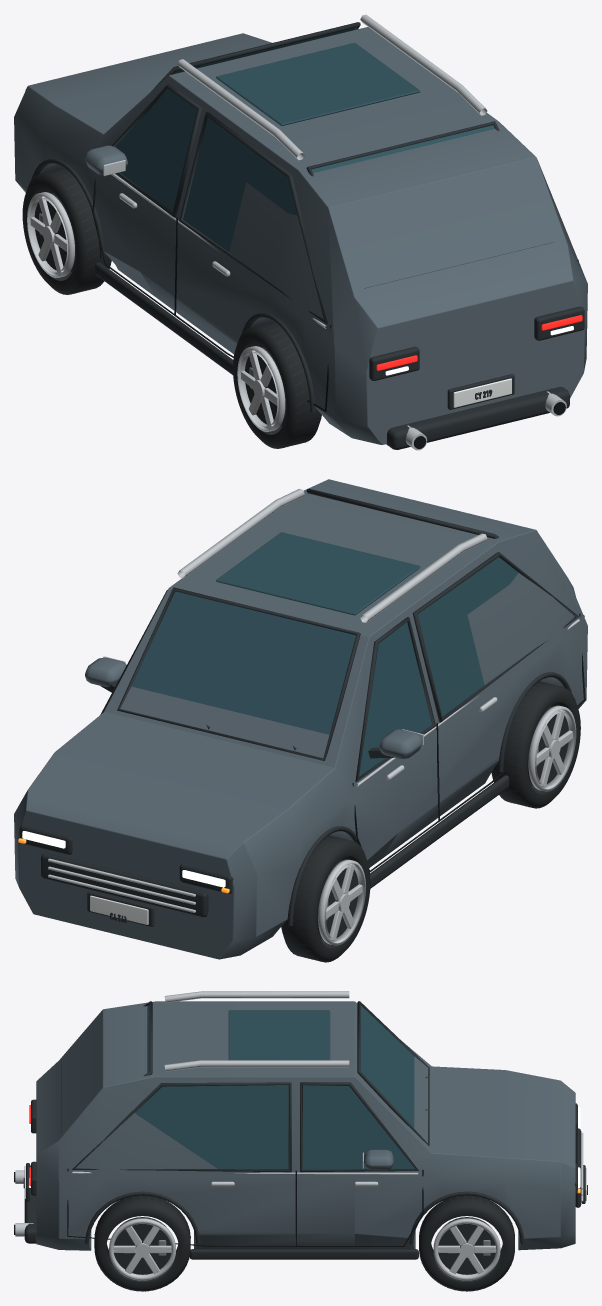
File: vehicle_cayo_utility_suv.glb
3 renders of one model, top to bottom at view 1: azimuth 30°, elevation 25°; view 2: azimuth 150°, elevation 25°; view 3: azimuth 270°, elevation 25°, orthographic. The views are drawn at different scales.
Parts seen in each view (by area): view 1: Cayo Utility SUV | continuous sculpted body, Cayo Utility SUV | panoramic roof, Cayo Utility SUV | rear quarter glazing, Cayo Utility SUV | front door glazing, Cayo Utility SUV | left rear | chamfered tire, Cayo Utility SUV | left front | chamfered tire, Cayo Utility SUV | rear bumper diffuser, Cayo Utility SUV | sill protector, Cayo Utility SUV | rear quarter glazing | gasket, Cayo Utility SUV | left rear | alloy rim lip, Cayo Utility SUV | left front | alloy rim lip, Cayo Utility SUV | satin roof rail (+17 smaller); view 2: Cayo Utility SUV | continuous sculpted body, Cayo Utility SUV | front windshield, Cayo Utility SUV | panoramic roof, Cayo Utility SUV | rear quarter glazing, Cayo Utility SUV | front door glazing, Cayo Utility SUV | left front | chamfered tire, Cayo Utility SUV | left rear | chamfered tire, Cayo Utility SUV | front bumper inset, Cayo Utility SUV | front windshield | weather seal, Cayo Utility SUV | sill protector, Cayo Utility SUV | rear quarter glazing | gasket, Cayo Utility SUV | left rear | alloy rim lip (+16 smaller); view 3: Cayo Utility SUV | continuous sculpted body, Cayo Utility SUV | rear quarter glazing.001, Cayo Utility SUV | front door glazing.001, Cayo Utility SUV | panoramic roof, Cayo Utility SUV | right rear | chamfered tire, Cayo Utility SUV | right front | chamfered tire, Cayo Utility SUV | front windshield, Cayo Utility SUV | sill protector.001, Cayo Utility SUV | rear quarter glazing | gasket.001, Cayo Utility SUV | satin roof rail, Cayo Utility SUV | satin roof rail.001, Cayo Utility SUV | right front | recessed wheel barrel (+13 smaller).
Part boxes in pixels (left/top/right/bottom): Cayo Utility SUV | continuous sculpted body: left=14, top=27, right=587, bottom=444; Cayo Utility SUV | panoramic roof: left=216, top=43, right=420, bottom=125; Cayo Utility SUV | rear quarter glazing: left=183, top=117, right=297, bottom=251; Cayo Utility SUV | front door glazing: left=115, top=89, right=197, bottom=211; Cayo Utility SUV | left rear | chamfered tire: left=233, top=321, right=321, bottom=448; Cayo Utility SUV | left front | chamfered tire: left=22, top=168, right=111, bottom=294; Cayo Utility SUV | rear bumper diffuser: left=386, top=386, right=569, bottom=449; Cayo Utility SUV | sill protector: left=95, top=262, right=233, bottom=374; Cayo Utility SUV | rear quarter glazing | gasket: left=179, top=112, right=327, bottom=323; Cayo Utility SUV | left rear | alloy rim lip: left=237, top=346, right=285, bottom=431; Cayo Utility SUV | left front | alloy rim lip: left=27, top=192, right=74, bottom=277; Cayo Utility SUV | satin roof rail: left=177, top=59, right=304, bottom=160; Cayo Utility SUV | continuous sculpted body: left=14, top=479, right=587, bottom=959; Cayo Utility SUV | front windshield: left=131, top=591, right=355, bottom=734; Cayo Utility SUV | panoramic roof: left=216, top=532, right=420, bottom=615; Cayo Utility SUV | rear quarter glazing: left=417, top=557, right=518, bottom=716; Cayo Utility SUV | front door glazing: left=359, top=622, right=431, bottom=776; Cayo Utility SUV | left front | chamfered tire: left=281, top=835, right=370, bottom=962; Cayo Utility SUV | left rear | chamfered tire: left=491, top=681, right=580, bottom=808; Cayo Utility SUV | front bumper inset: left=41, top=853, right=208, bottom=917; Cayo Utility SUV | front windshield | weather seal: left=117, top=587, right=360, bottom=761; Cayo Utility SUV | sill protector: left=370, top=775, right=509, bottom=888; Cayo Utility SUV | rear quarter glazing | gasket: left=412, top=552, right=578, bottom=722; Cayo Utility SUV | left rear | alloy rim lip: left=528, top=705, right=576, bottom=791; Cayo Utility SUV | continuous sculpted body: left=36, top=1001, right=575, bottom=1250; Cayo Utility SUV | rear quarter glazing.001: left=135, top=1085, right=288, bottom=1169; Cayo Utility SUV | front door glazing.001: left=303, top=1085, right=414, bottom=1169; Cayo Utility SUV | panoramic roof: left=228, top=1010, right=330, bottom=1060; Cayo Utility SUV | right rear | chamfered tire: left=94, top=1195, right=190, bottom=1291; Cayo Utility SUV | right front | chamfered tire: left=419, top=1195, right=514, bottom=1291; Cayo Utility SUV | front windshield: left=360, top=1005, right=414, bottom=1128; Cayo Utility SUV | sill protector.001: left=189, top=1249, right=418, bottom=1259; Cayo Utility SUV | rear quarter glazing | gasket.001: left=72, top=1082, right=291, bottom=1172; Cayo Utility SUV | satin roof rail: left=164, top=991, right=349, bottom=1002; Cayo Utility SUV | satin roof rail.001: left=164, top=1060, right=349, bottom=1071; Cayo Utility SUV | right front | recessed wheel barrel: left=438, top=1217, right=495, bottom=1274.
Size of the model in its own units: 2.56 by 2.07 by 5.08.
